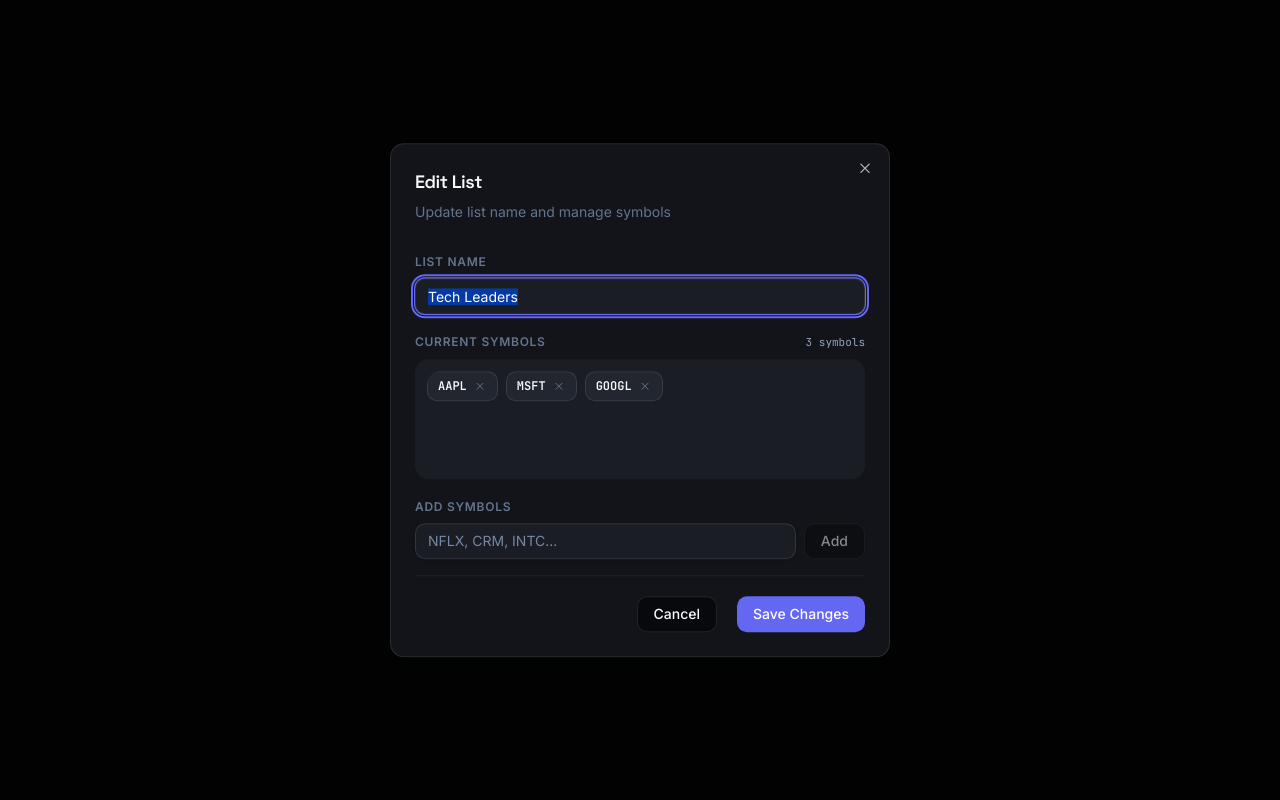
Test: EditListDialog › Adding Symbols › prevents duplicate symbols
This screenshot has width=1280, height=800.
Type "AAPL, NVDA" into the field with placeholder "NFLX, CRM, INTC...". click: (605, 541)
box: x1=415 y1=523 x2=796 y2=559
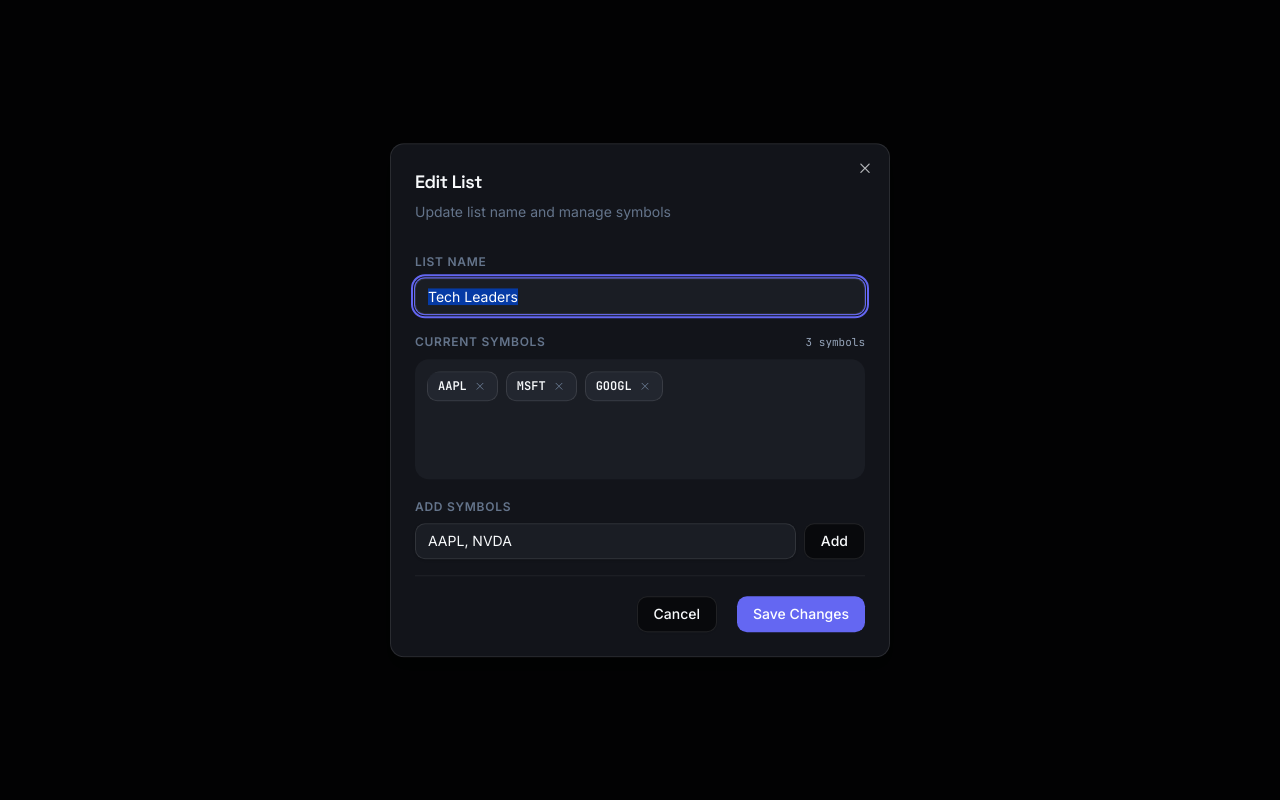
Click the button "Add". click: (834, 541)
box: x1=804 y1=523 x2=865 y2=559
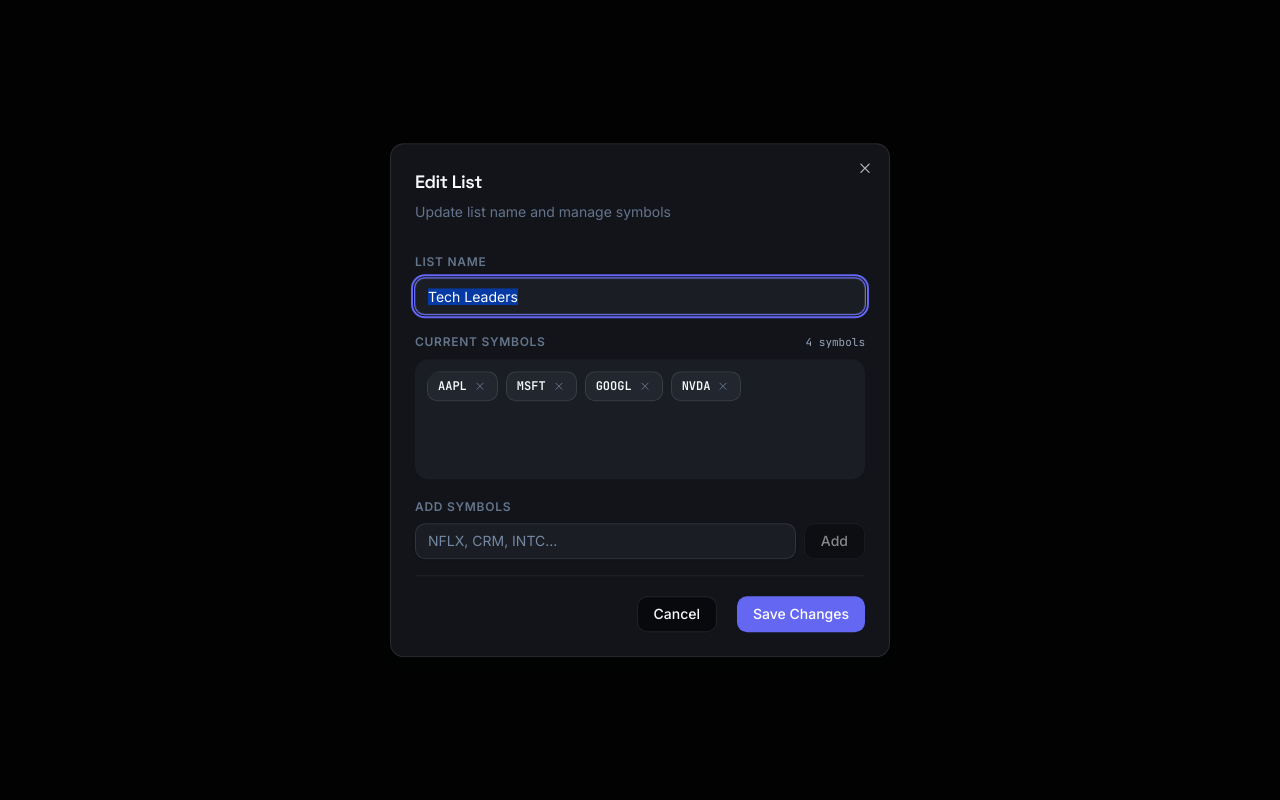
Expected: the text "AAPL" is shown once, x1=438 y1=378 x2=467 y2=394
Expected: the text "NVDA" is shown, x1=682 y1=378 x2=710 y2=394
